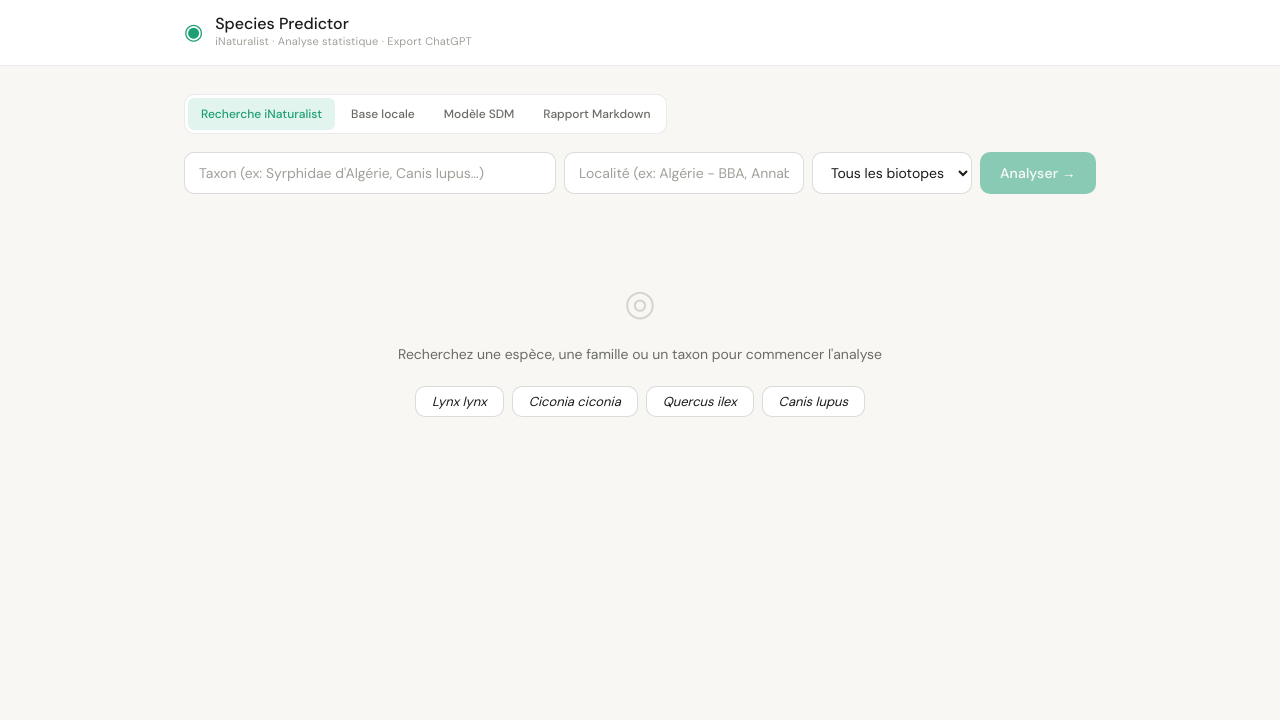
Test: App report mode › restores the last imported report from local storage
Click the button "Rapport Markdown" at x=597, y=114, box [530,98,663,130]
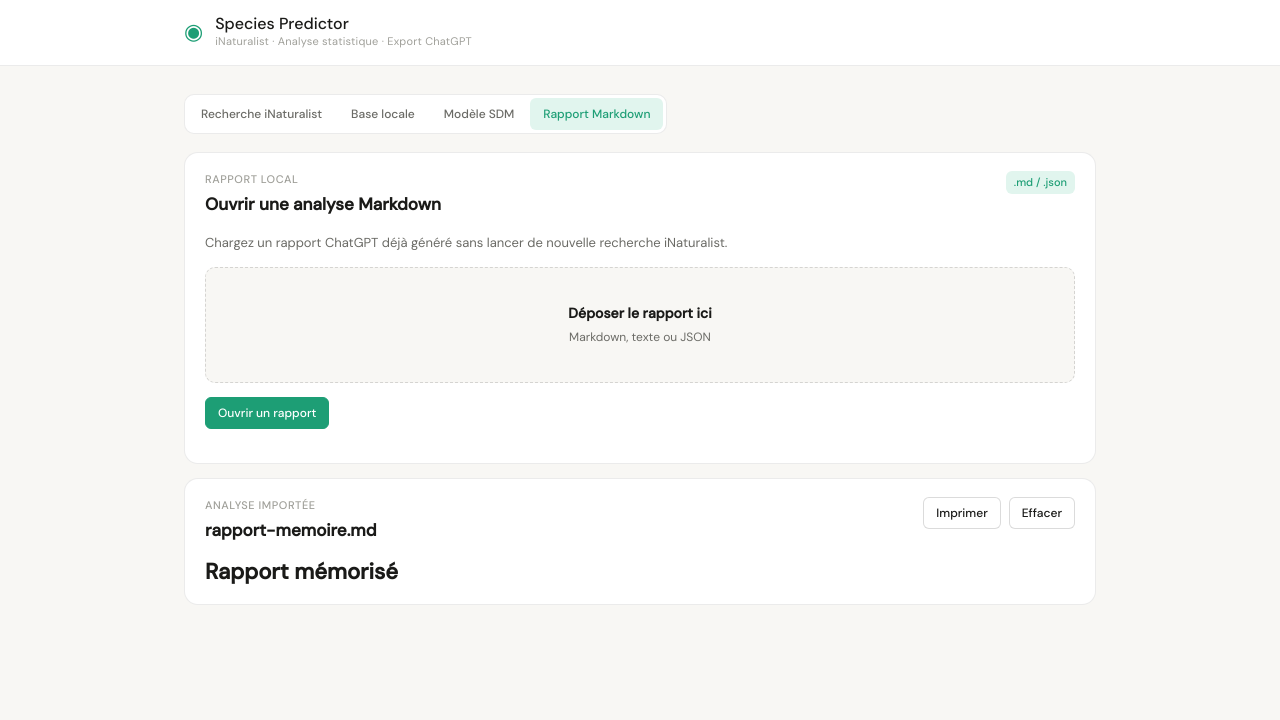
Now the heading "Rapport mémorisé" is shown, box [205,558,398,586]
Now the heading "rapport-memoire.md" is shown, box [205,517,377,544]
